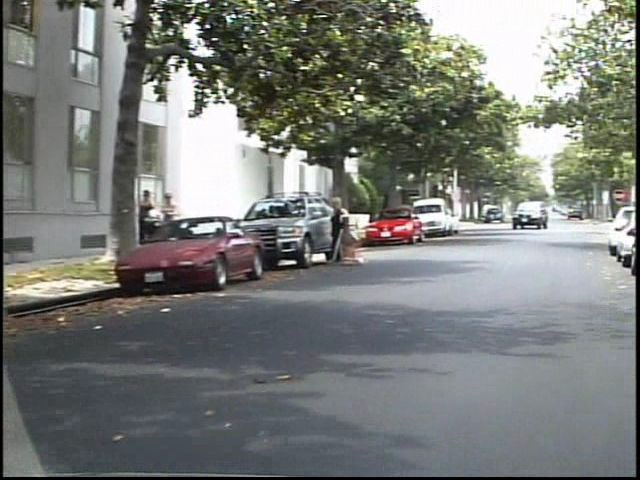person: (334, 193, 366, 273), (147, 185, 173, 253), (172, 188, 195, 251)
